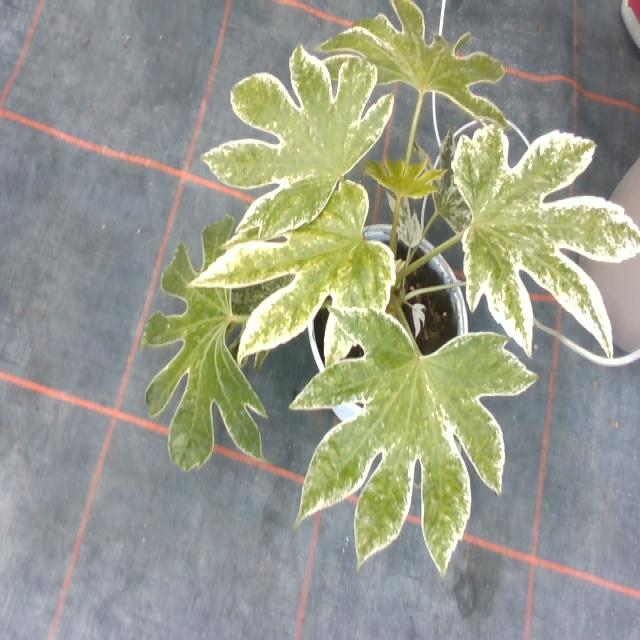Fatsia-japonica: (292, 296, 533, 568), (182, 154, 404, 371), (95, 222, 267, 473), (442, 121, 632, 346), (184, 52, 388, 246), (309, 4, 509, 133), (363, 140, 432, 209)
